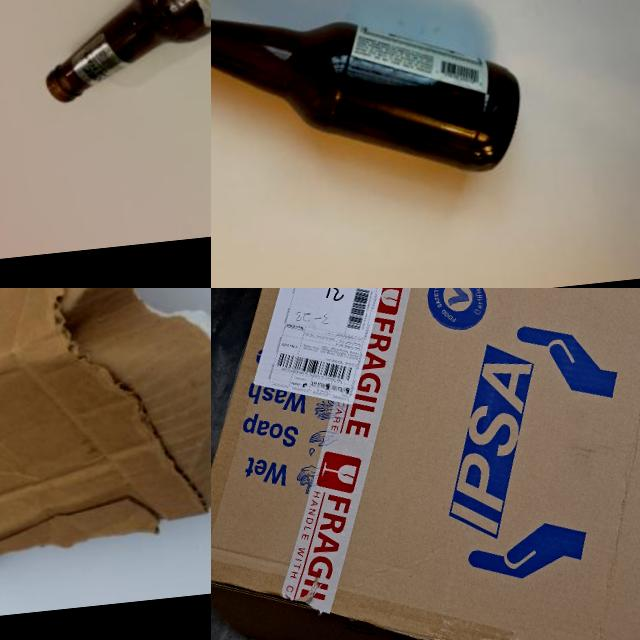garrafa de vidro: (211, 0, 528, 205), (26, 0, 211, 104)
papelão: (211, 288, 640, 640), (0, 288, 211, 567)
